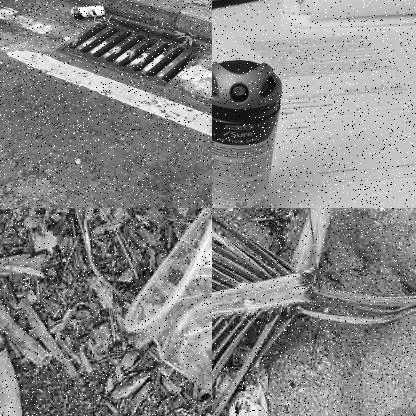metal: (212, 61, 284, 207), (73, 2, 108, 20)
plastic: (124, 208, 211, 415), (212, 338, 275, 415)
